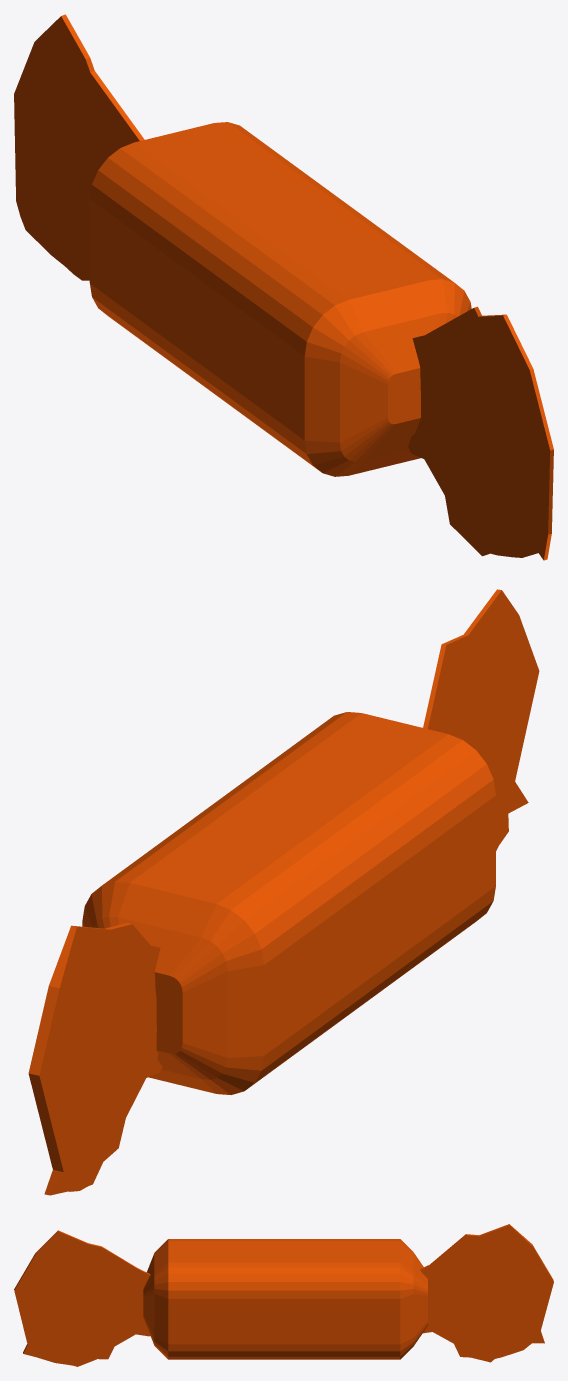
Rendered from Candy_2.fbx.
The picture shows the model from 3 angles, top to bottom: view 1: azimuth 30°, elevation 25°; view 2: azimuth 150°, elevation 25°; view 3: azimuth 270°, elevation 25°; orthographic projection. The views are drawn at different scales.
Parts seen in each view (by area): view 1: Cube.001, Cube, Cube.002; view 2: Cube.001, Cube.002, Cube; view 3: Cube.001, Cube, Cube.002.
Part boxes in pixels (left/top/right/bottom): Cube.001: left=89, top=122, right=471, bottom=476; Cube: left=408, top=306, right=553, bottom=560; Cube.002: left=14, top=14, right=144, bottom=280; Cube.001: left=82, top=712, right=495, bottom=1094; Cube.002: left=28, top=923, right=162, bottom=1195; Cube: left=423, top=589, right=539, bottom=850; Cube.001: left=143, top=1239, right=427, bottom=1359; Cube: left=14, top=1230, right=150, bottom=1366; Cube.002: left=420, top=1224, right=553, bottom=1362.
Bounding box in the file's own units: 58.76 × 84.43 × 303.
